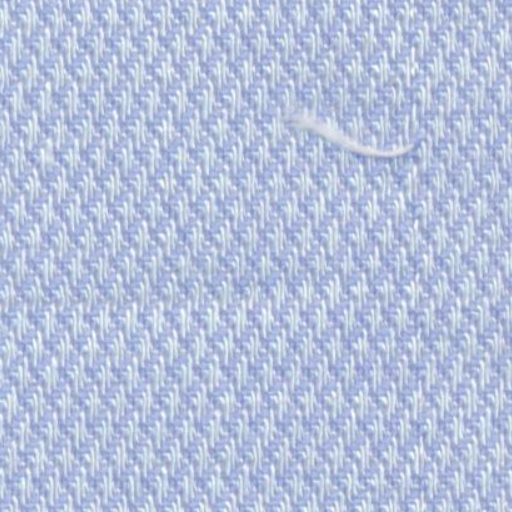DuanSha: (284, 96, 433, 168)
